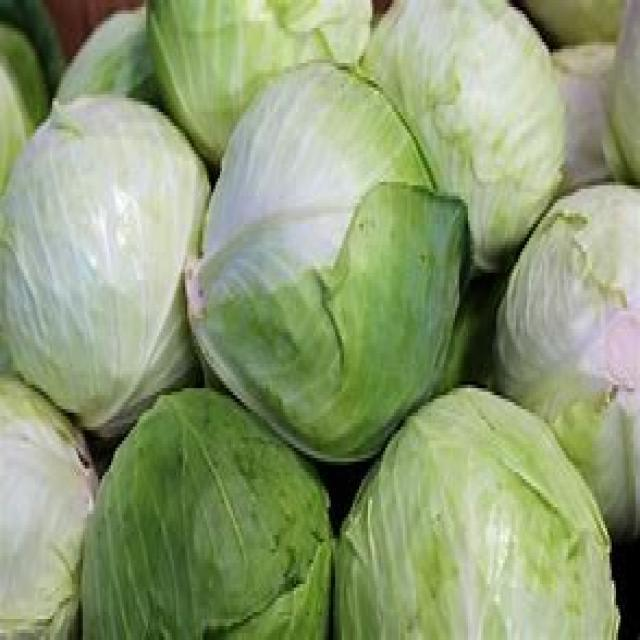cabbage: (191, 63, 463, 461), (326, 380, 621, 640), (3, 97, 207, 417)
